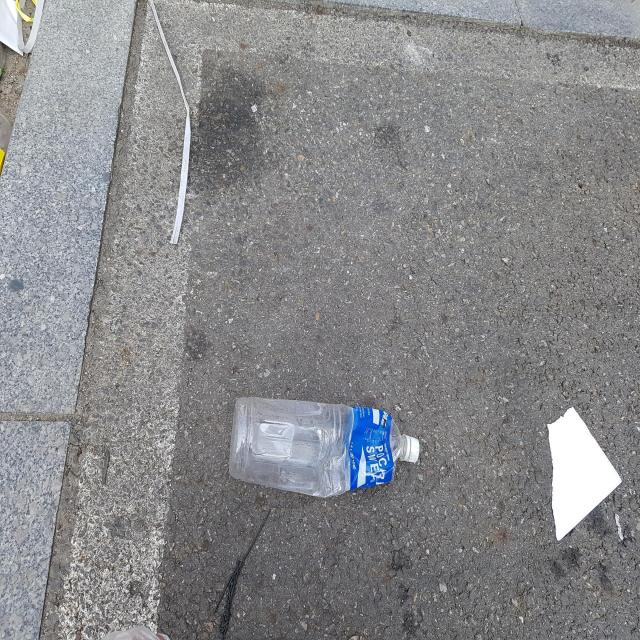plastic: (229, 397, 420, 498)
